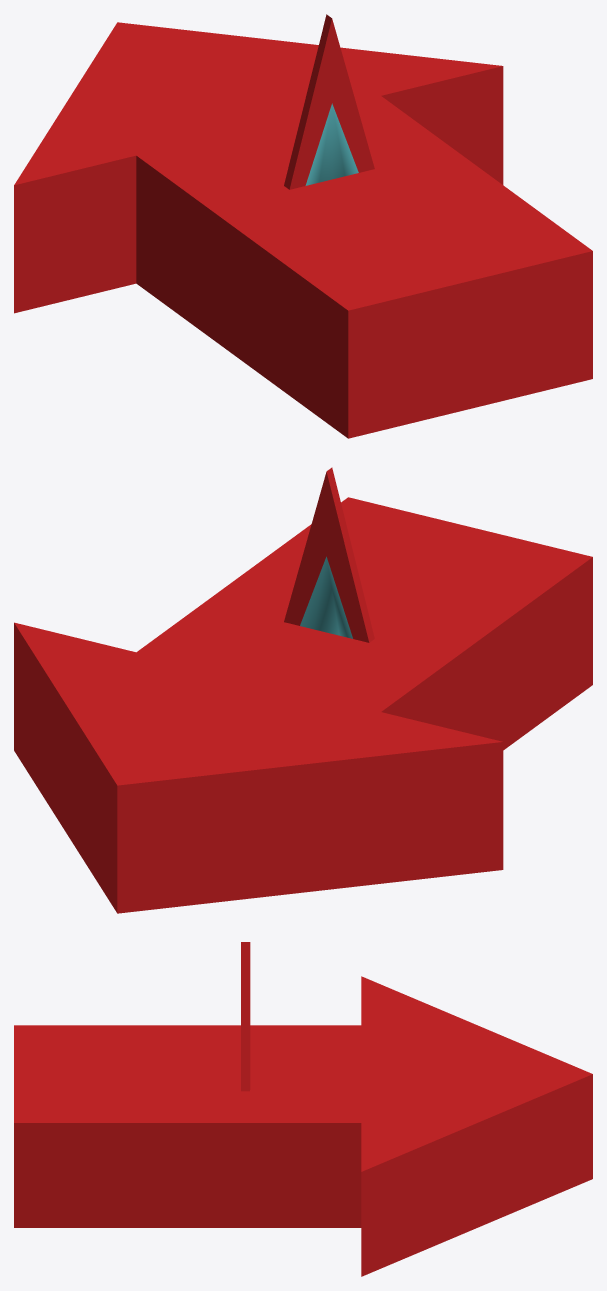
Rendered from arrow.fbx.
3 renders of one model, top to bottom at view 1: azimuth 30°, elevation 25°; view 2: azimuth 150°, elevation 25°; view 3: azimuth 270°, elevation 25°, orthographic. The views are drawn at different scales.
Visible parts, largest first — view 1: Cube, Cube.001, Cube.000; view 2: Cube, Cube.001, Cube.000; view 3: Cube, Cube.001.
Part boxes in pixels (x1,y1,x2,y2): Cube: (14, 22, 592, 438); Cube.001: (284, 14, 374, 189); Cube.000: (305, 103, 358, 185); Cube: (14, 497, 592, 913); Cube.001: (284, 467, 374, 642); Cube.000: (300, 556, 352, 638); Cube: (14, 976, 592, 1276); Cube.001: (241, 942, 250, 1091).
Size of the model in its own units: 400 by 226 by 500.
